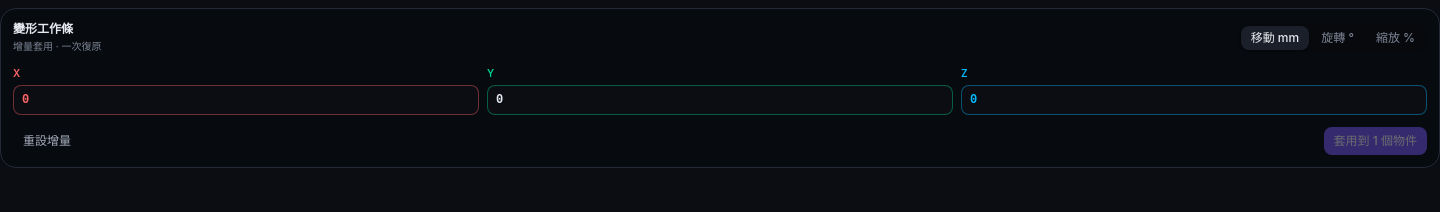
it: BatchTransformPanel › disables apply for zero and invalid scale deltas
Expected: the button "套用到 1 個物件" is disabled, [1324,127,1427,155]
Click the radio button labelled "縮放 %" at coordinates (1395, 38), box [1366,26,1425,50]
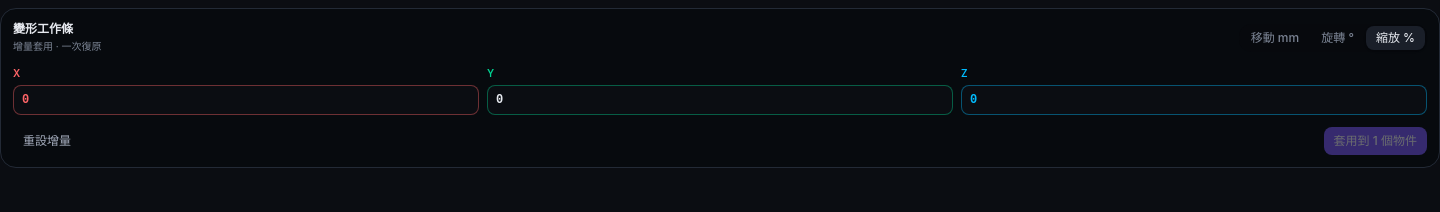
Replace the text in the number field named "縮放 X（%）" with "-100" at coordinates (246, 100), box [13,85,479,115]
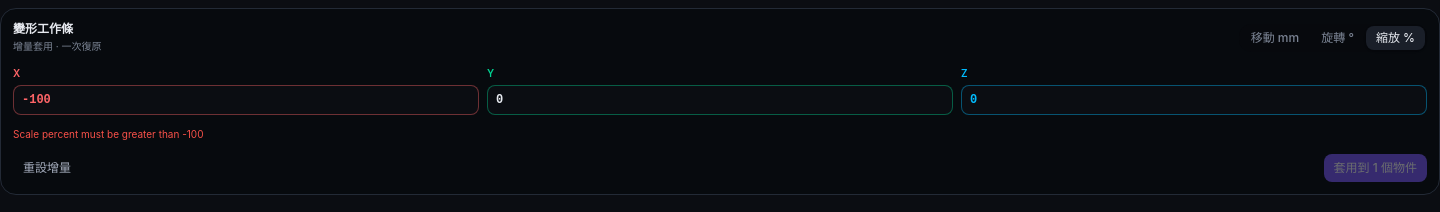
Expected: the button "套用到 1 個物件" is disabled, [1324,154,1427,182]
Result: the message shows "greater than -100" at [13,128,204,140]
